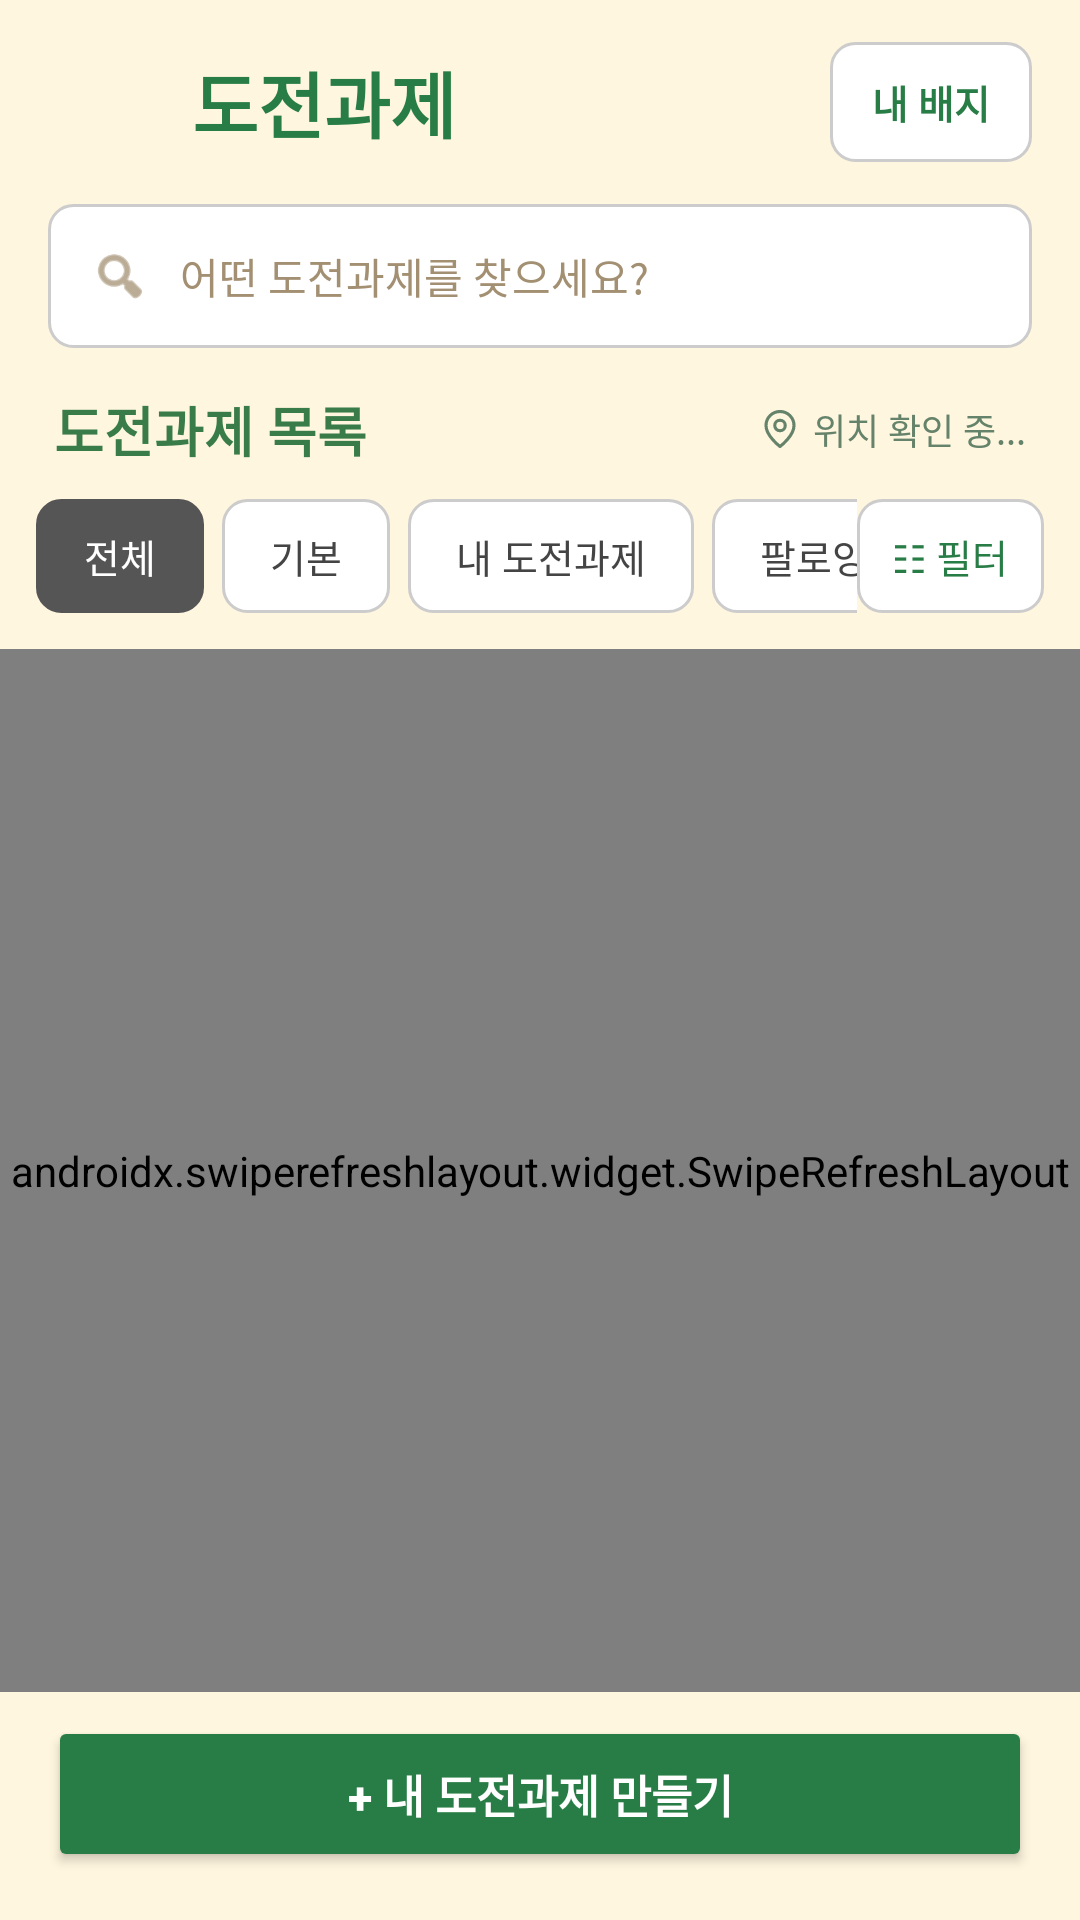

Icon click points for this 1080w x 1920h phone screenshot, format [x,y]:
search: [120,276]
